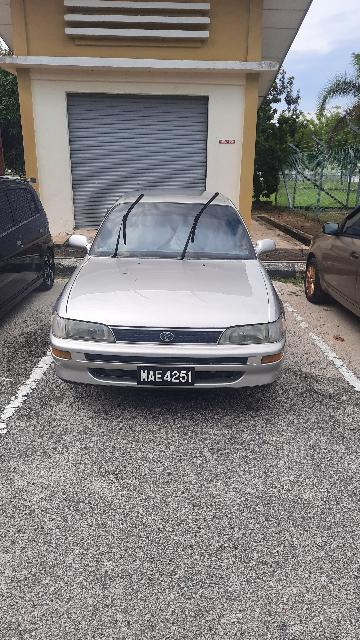License_Plate: (137, 366, 200, 391)
car: (45, 185, 293, 401)
